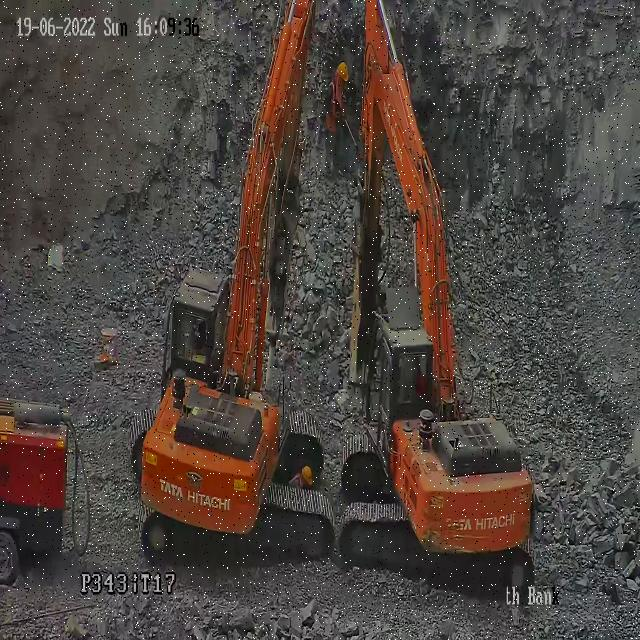Boots: (324, 172, 334, 192)
Helmet: (300, 464, 313, 485), (338, 61, 349, 80)
Mask: (329, 80, 345, 132)
